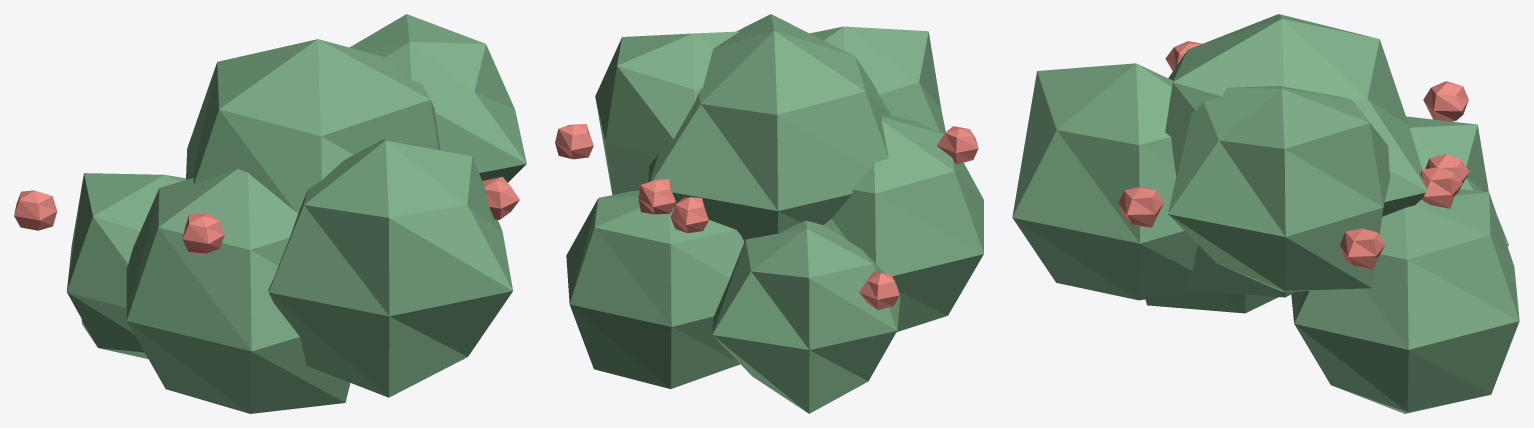
The model's file is nature_bush_berry.glb.
3 renders of one model, left to right at view 1: azimuth 30°, elevation 25°; view 2: azimuth 150°, elevation 25°; view 3: azimuth 270°, elevation 25°, orthographic. The views are drawn at different scales.
Visible parts, largest first — view 1: world; view 2: world; view 3: world.
Boxes of the visible parts, x1=… form: world: x1=14, y1=14, x2=526, y2=413; world: x1=555, y1=14, x2=983, y2=413; world: x1=1012, y1=14, x2=1519, y2=413.
Bounding box in the file's own units: 1.94 × 1.6 × 2.
